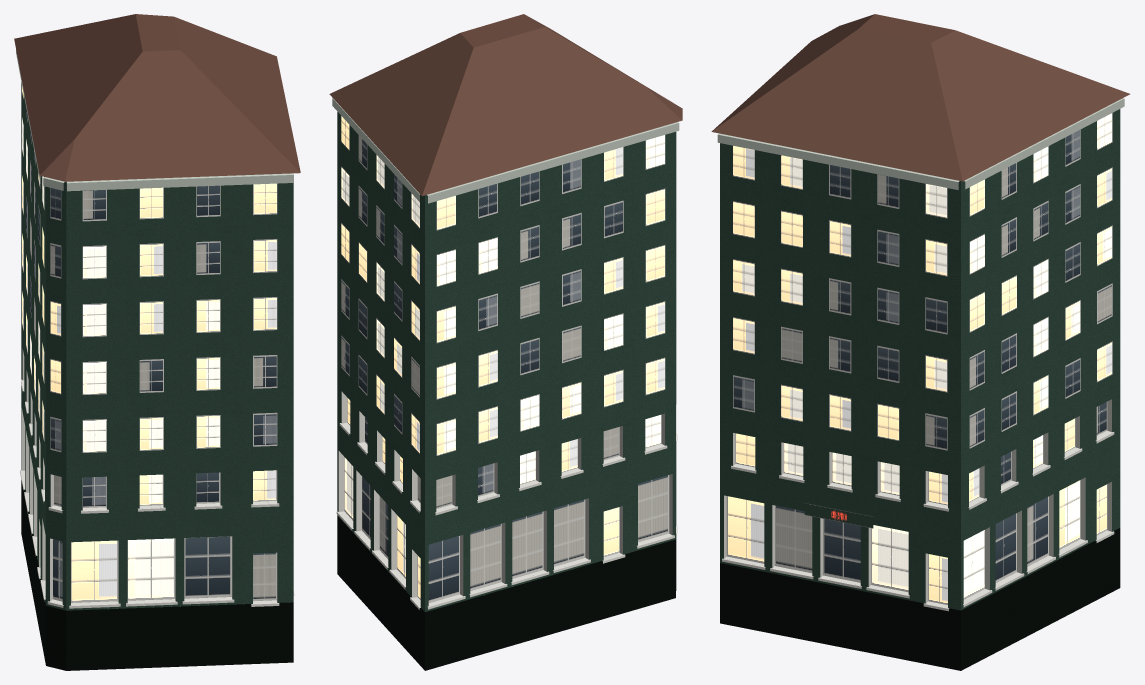
File: langC_spaccio.glb
3 renders of one model, left to right at view 1: azimuth 30°, elevation 25°; view 2: azimuth 150°, elevation 25°; view 3: azimuth 270°, elevation 25°, orthographic. The views are drawn at different scales.
Parts seen in each view (by area): view 1: langC_spaccio; view 2: langC_spaccio; view 3: langC_spaccio.
Boxes of the visible parts, left/top/right/bottom form: langC_spaccio: left=14, top=14, right=300, bottom=670; langC_spaccio: left=329, top=14, right=682, bottom=670; langC_spaccio: left=711, top=14, right=1130, bottom=670.
Bounding box in the file's own units: 15.63 × 28.49 × 18.89.
3 materials, 3 textured.
